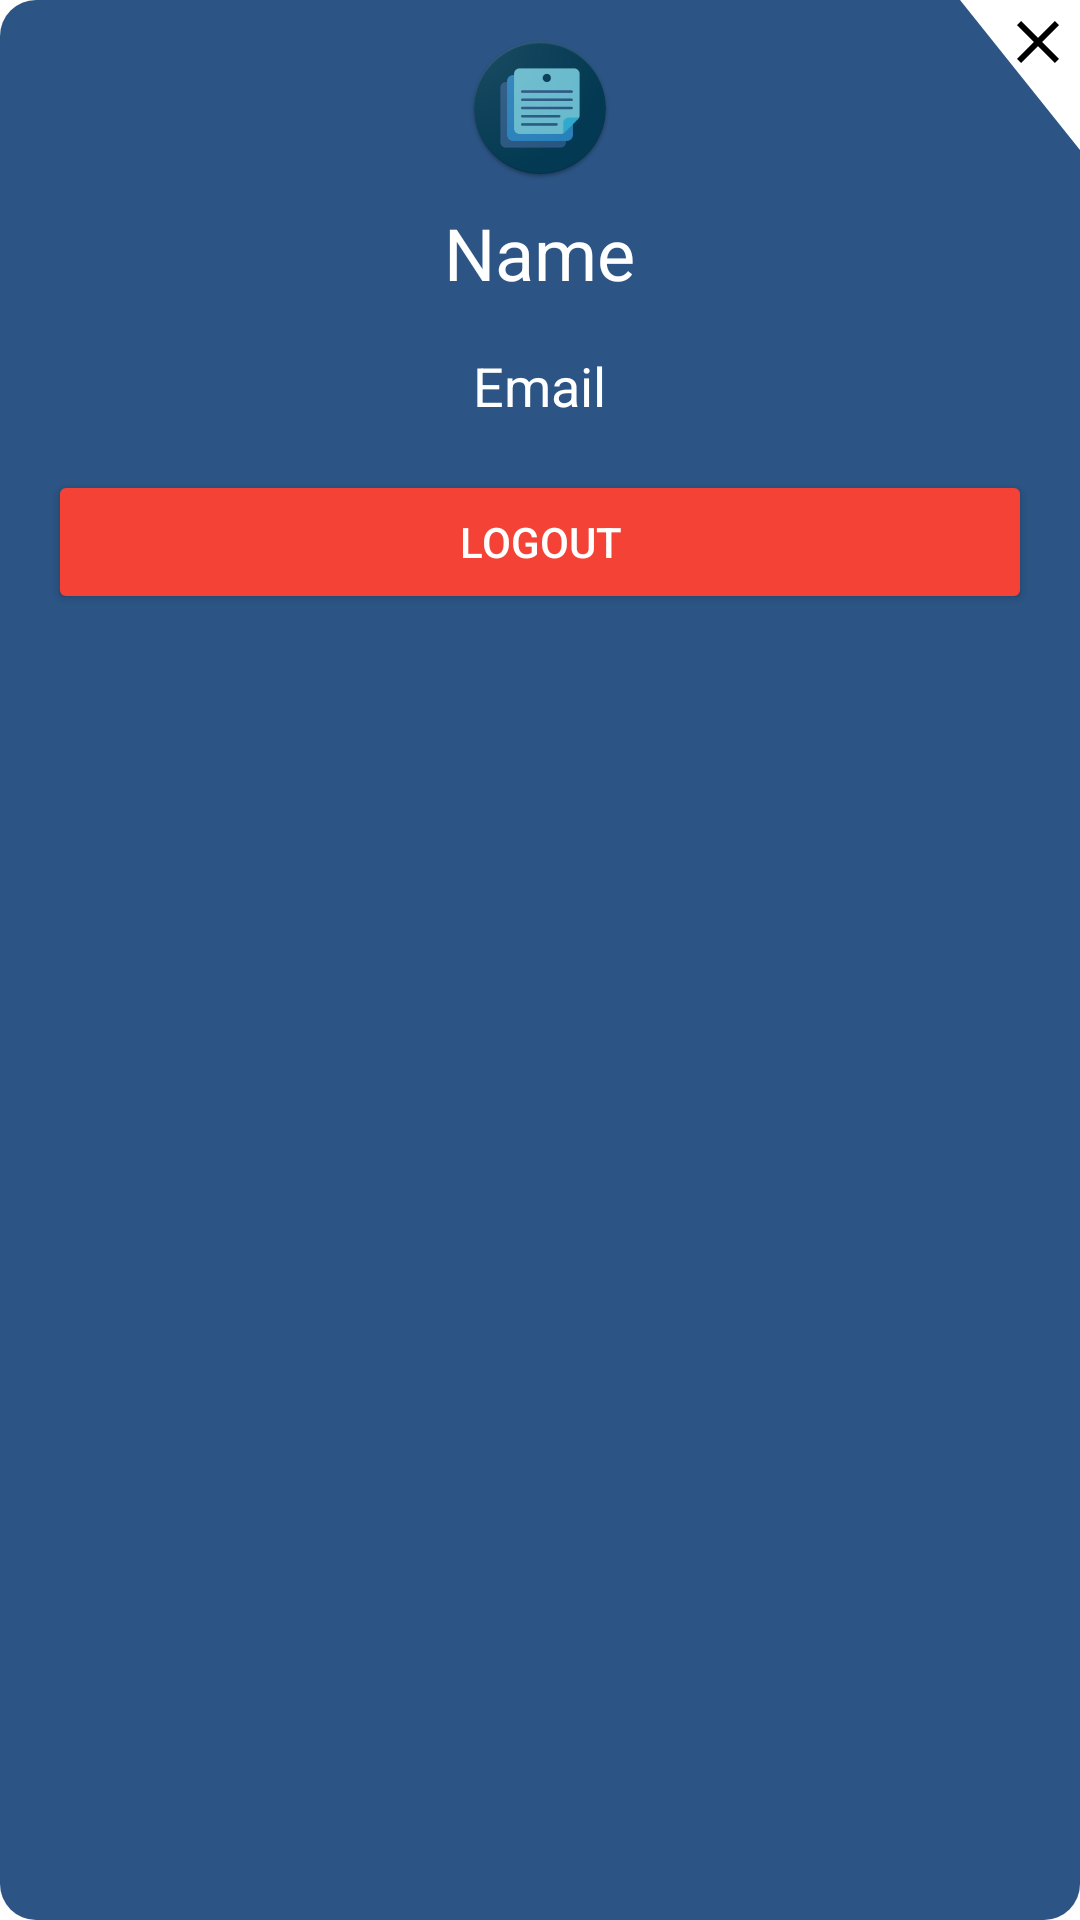

Icon click points for this 1080w x 1920h phone screenshot, format [x,y]:
clear: [1038,42]
